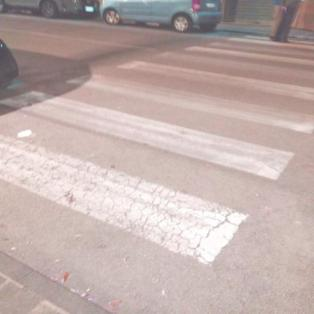Paso de Cebra: (1, 87, 296, 267)
